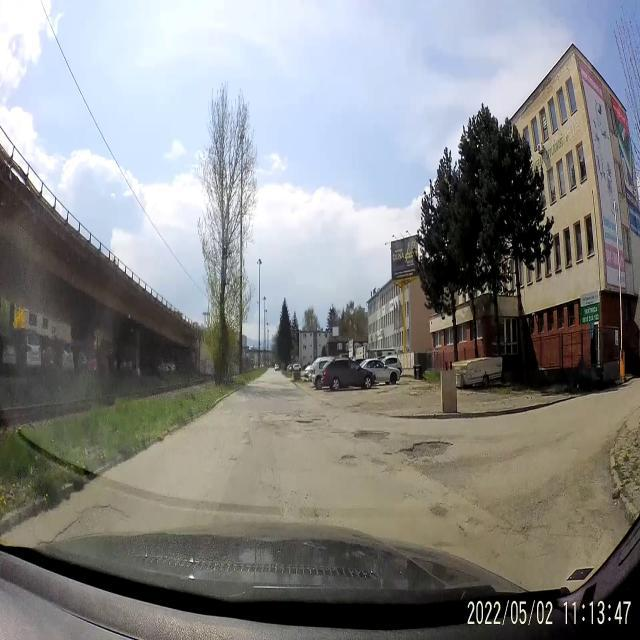Pothole: (53, 502, 132, 541), (396, 430, 453, 465), (351, 424, 391, 449), (294, 416, 324, 430), (340, 448, 358, 466), (382, 450, 394, 458)
